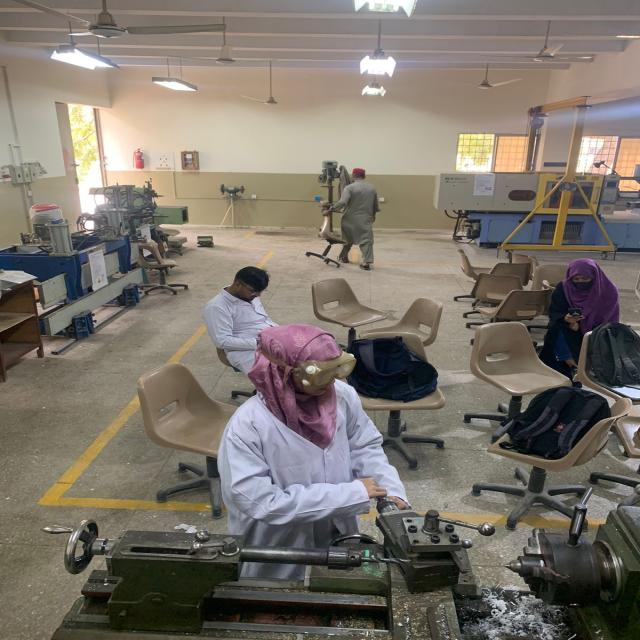googles: (296, 350, 357, 392)
labcoat: (215, 375, 412, 581), (201, 283, 283, 376)
